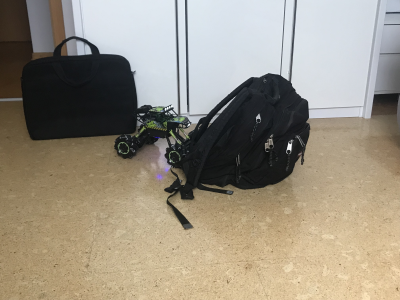remote control car: (113, 101, 194, 164)
